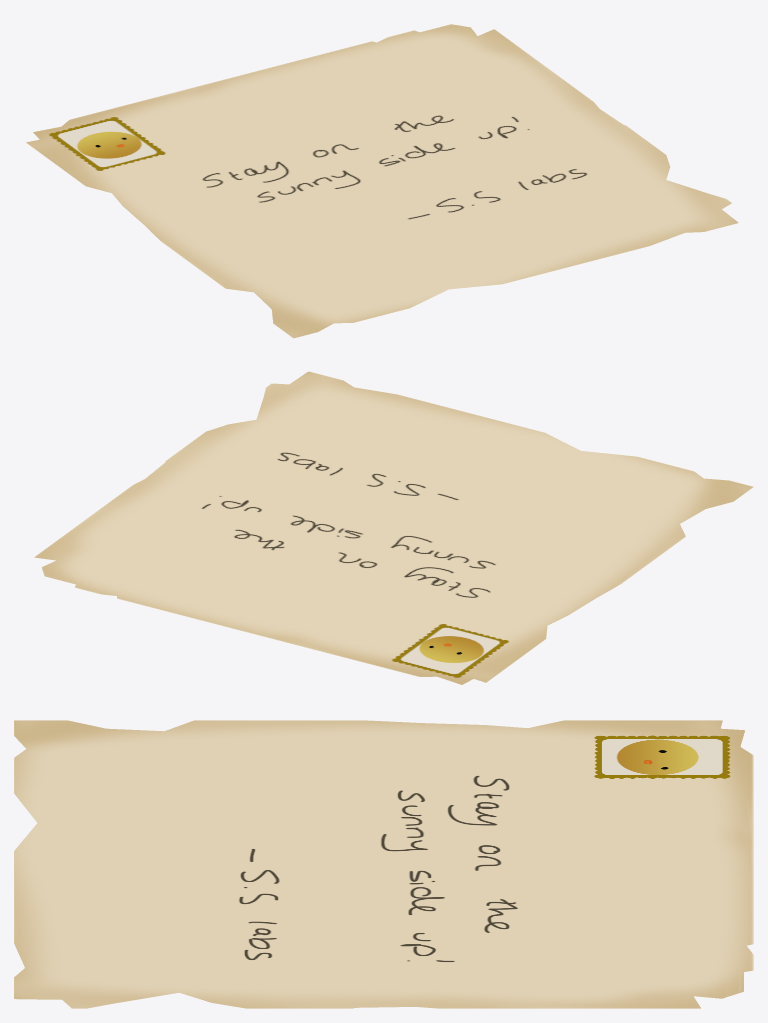
File: Letter.fbx
The picture shows the model from 3 angles, top to bottom: view 1: azimuth 30°, elevation 25°; view 2: azimuth 150°, elevation 25°; view 3: azimuth 270°, elevation 25°; orthographic projection. The views are drawn at different scales.
Visible parts, largest first — view 1: Letter; view 2: Letter; view 3: Letter.
Part boxes in pixels (bbox=[...]): Letter: bbox=[26, 24, 738, 338]; Letter: bbox=[34, 371, 753, 684]; Letter: bbox=[14, 720, 753, 1008].
Bounding box in the file's own units: 95.1 × 1.39 × 100.
